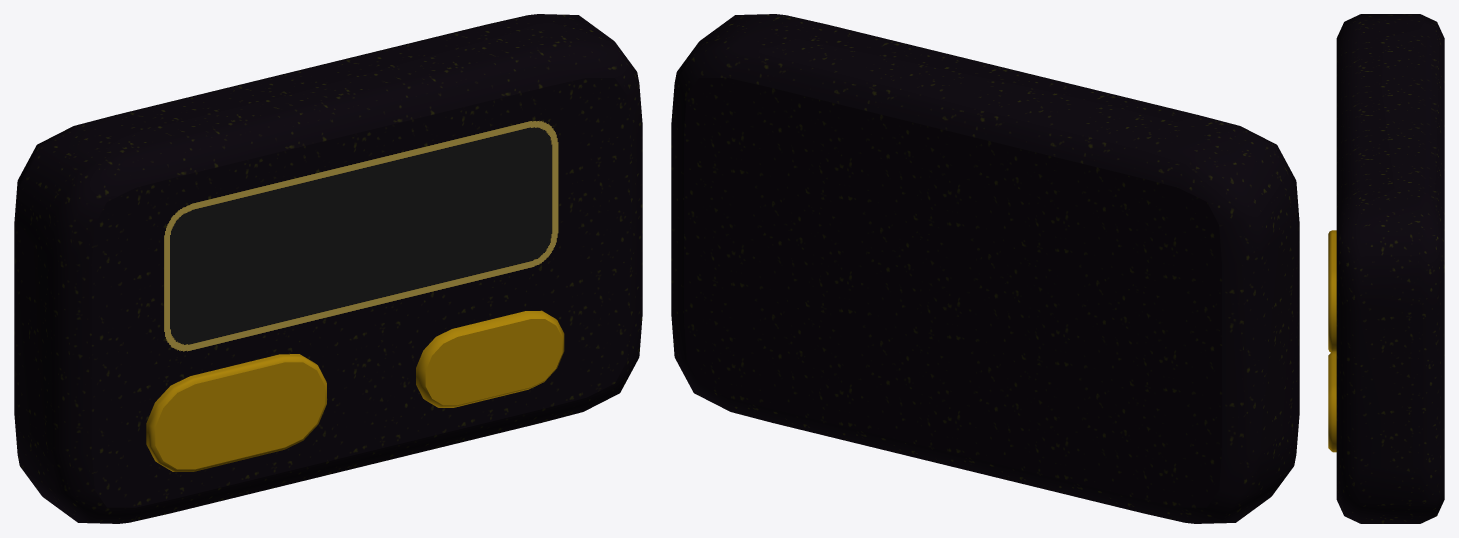
The model's file is Timer.fbx.
The picture shows the model from 3 angles, left to right: view 1: azimuth 30°, elevation 25°; view 2: azimuth 150°, elevation 25°; view 3: azimuth 270°, elevation 25°; orthographic projection. The views are drawn at different scales.
Visible parts, largest first — view 1: Timer, StartButton, ResetButton; view 2: Timer; view 3: Timer, StartButton, ResetButton.
Boxes of the visible parts, left/top/right/bottom form: Timer: left=14, top=14, right=642, bottom=523; StartButton: left=146, top=354, right=326, bottom=471; ResetButton: left=416, top=310, right=564, bottom=407; Timer: left=671, top=14, right=1299, bottom=523; Timer: left=1336, top=14, right=1444, bottom=523; StartButton: left=1328, top=230, right=1336, bottom=352; ResetButton: left=1328, top=351, right=1336, bottom=452.
Size of the model in its own units: 7.45 by 4.52 by 1.53.
